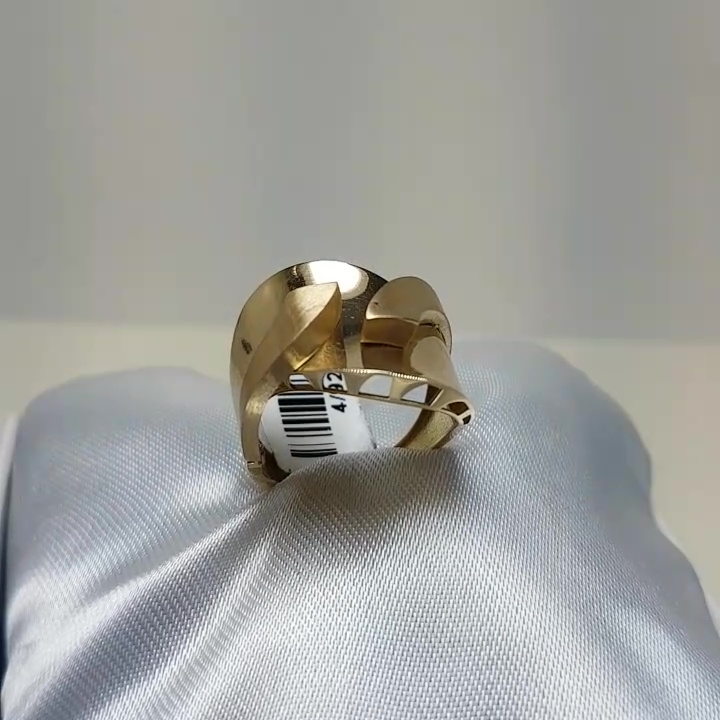Ring 4: (200, 242, 509, 519)
